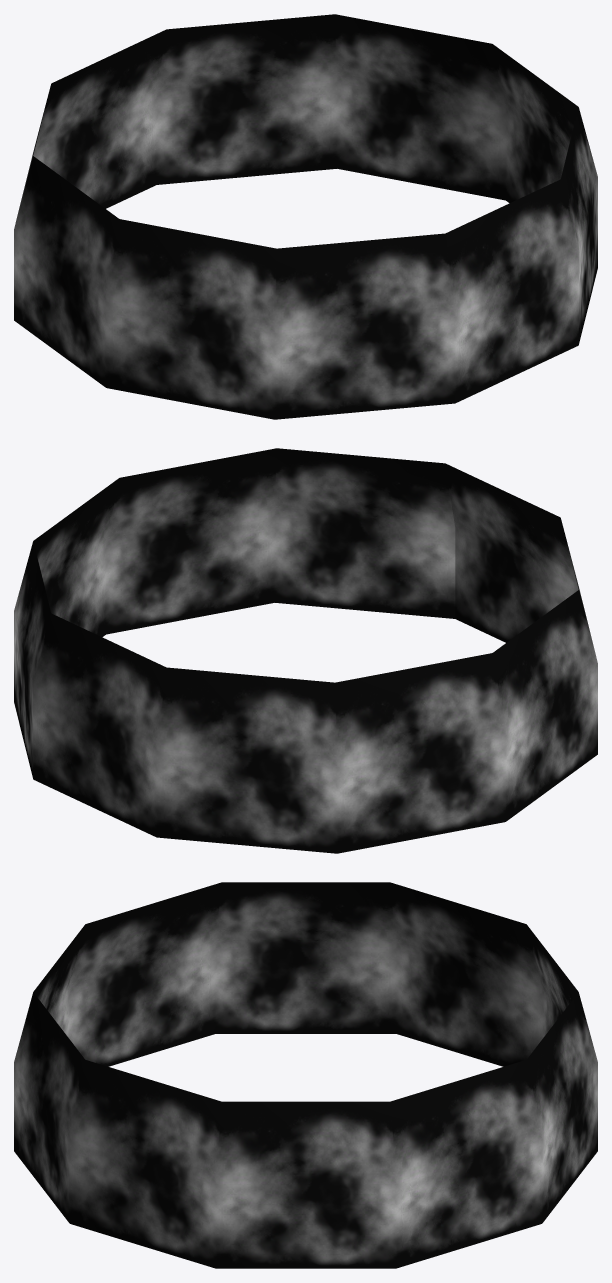
The model's file is fog.obj.
3 renders of one model, top to bottom at view 1: azimuth 30°, elevation 25°; view 2: azimuth 150°, elevation 25°; view 3: azimuth 270°, elevation 25°, orthographic. The views are drawn at different scales.
Parts seen in each view (by area): view 1: fog; view 2: fog; view 3: fog.
Part boxes in pixels (box(x1,y1,x2,y2)): fog: box(14, 14, 597, 419); fog: box(14, 448, 597, 853); fog: box(14, 882, 597, 1268).
Bounding box in the file's own units: 3820 × 1209 × 4016.
